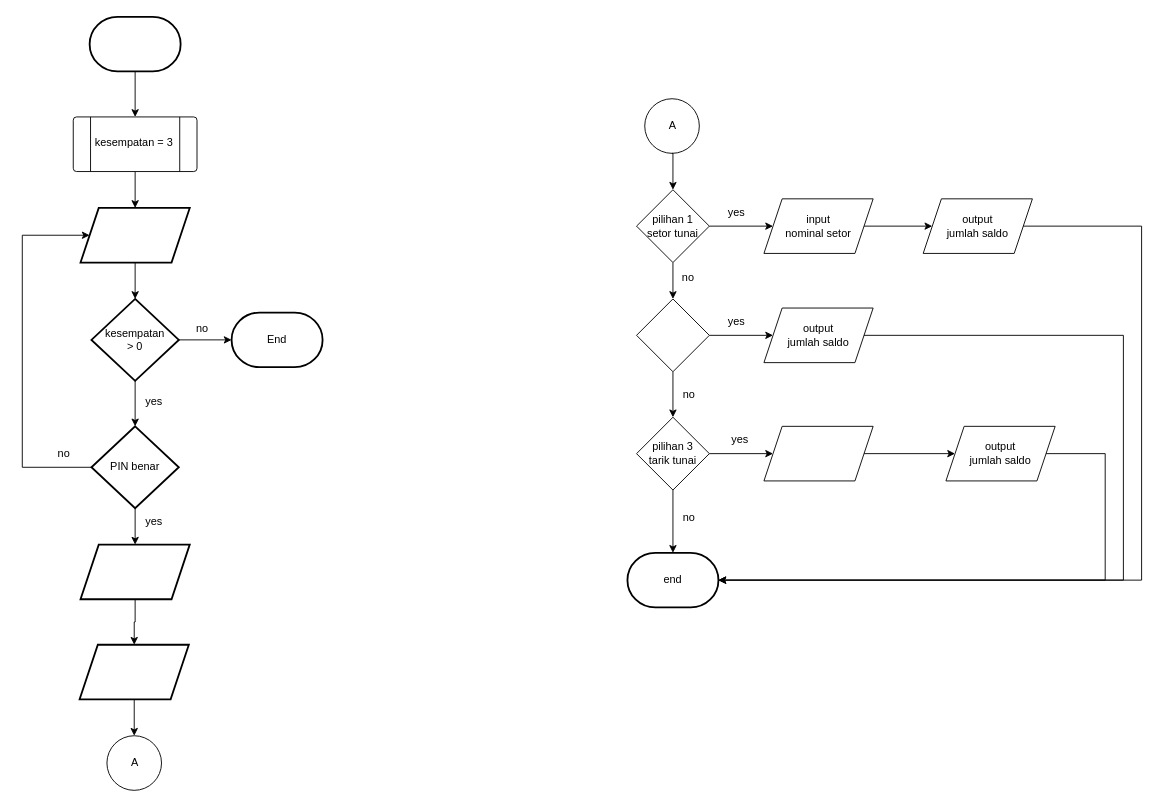
The diagram is 1165 pixels wide and 806 high, and some of its shapes have lost their labels. The centre of each missing label's shape, as x and y in pixels:
"input nominal tarik" belongs at point (818, 453).
"input Pilihan" belongs at point (133, 671).
"input PIN" belongs at point (134, 235).
"output Menu Utama" belongs at point (134, 571).
"pilhan 2 cek saldo" belongs at point (672, 335).
"start" belongs at point (134, 43).
